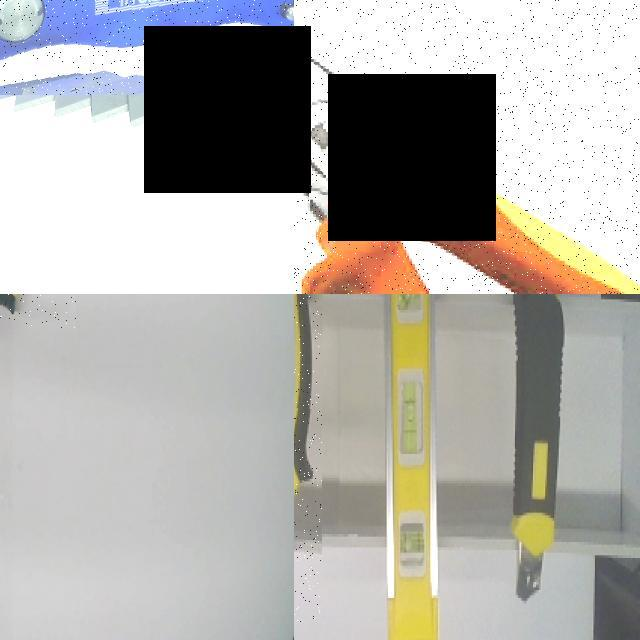estilete: (512, 296, 564, 600)
